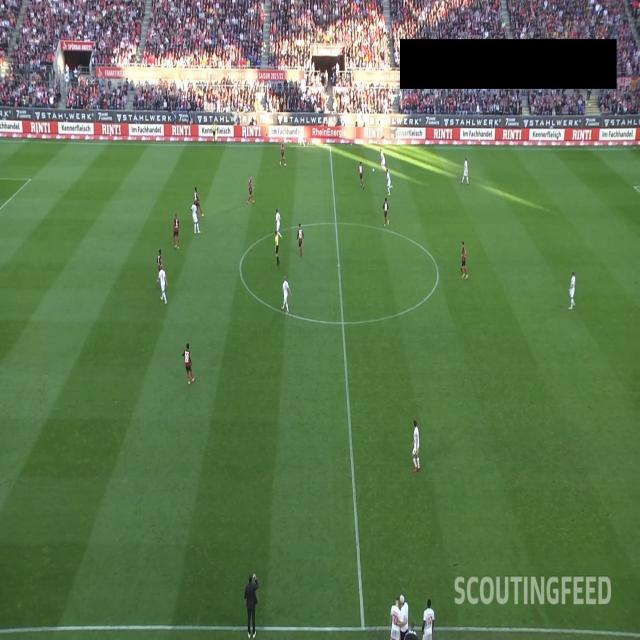ball: (372, 168, 375, 172)
